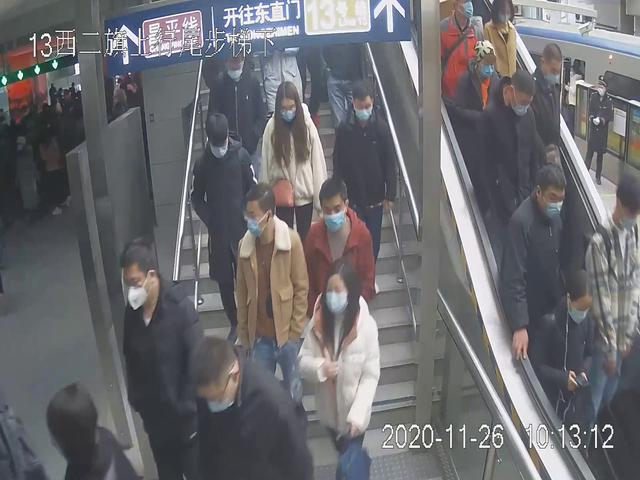person: (115, 238, 209, 480), (229, 182, 310, 421), (295, 259, 380, 480), (191, 110, 259, 354), (580, 173, 640, 429), (329, 76, 401, 289), (501, 160, 570, 381), (474, 67, 552, 248), (259, 76, 329, 263)
